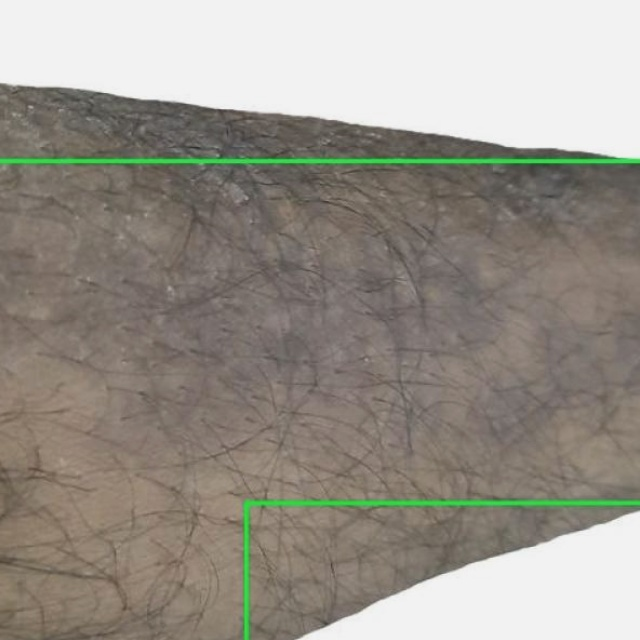Contact Dermatitis: (0, 0, 639, 161), (246, 502, 639, 639)
